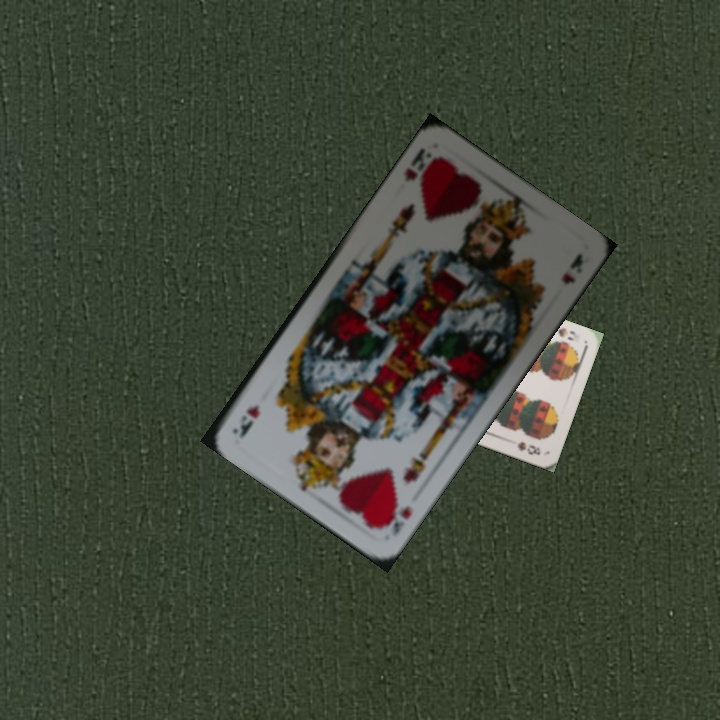HK: (375, 499, 414, 538), (400, 144, 434, 184)
S8: (554, 324, 578, 343)
